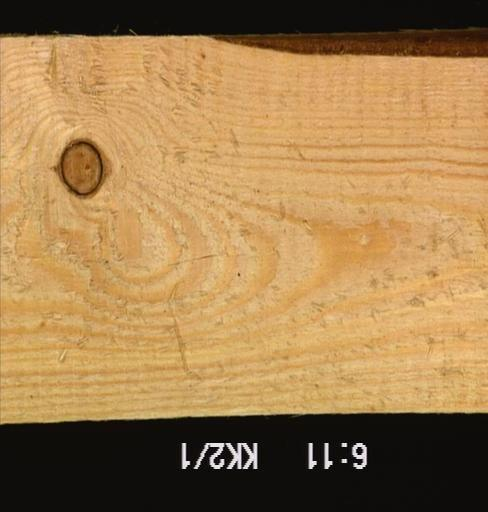dry_knot: (56, 139, 104, 198)
split: (165, 253, 223, 265)
wave: (200, 30, 486, 57)
